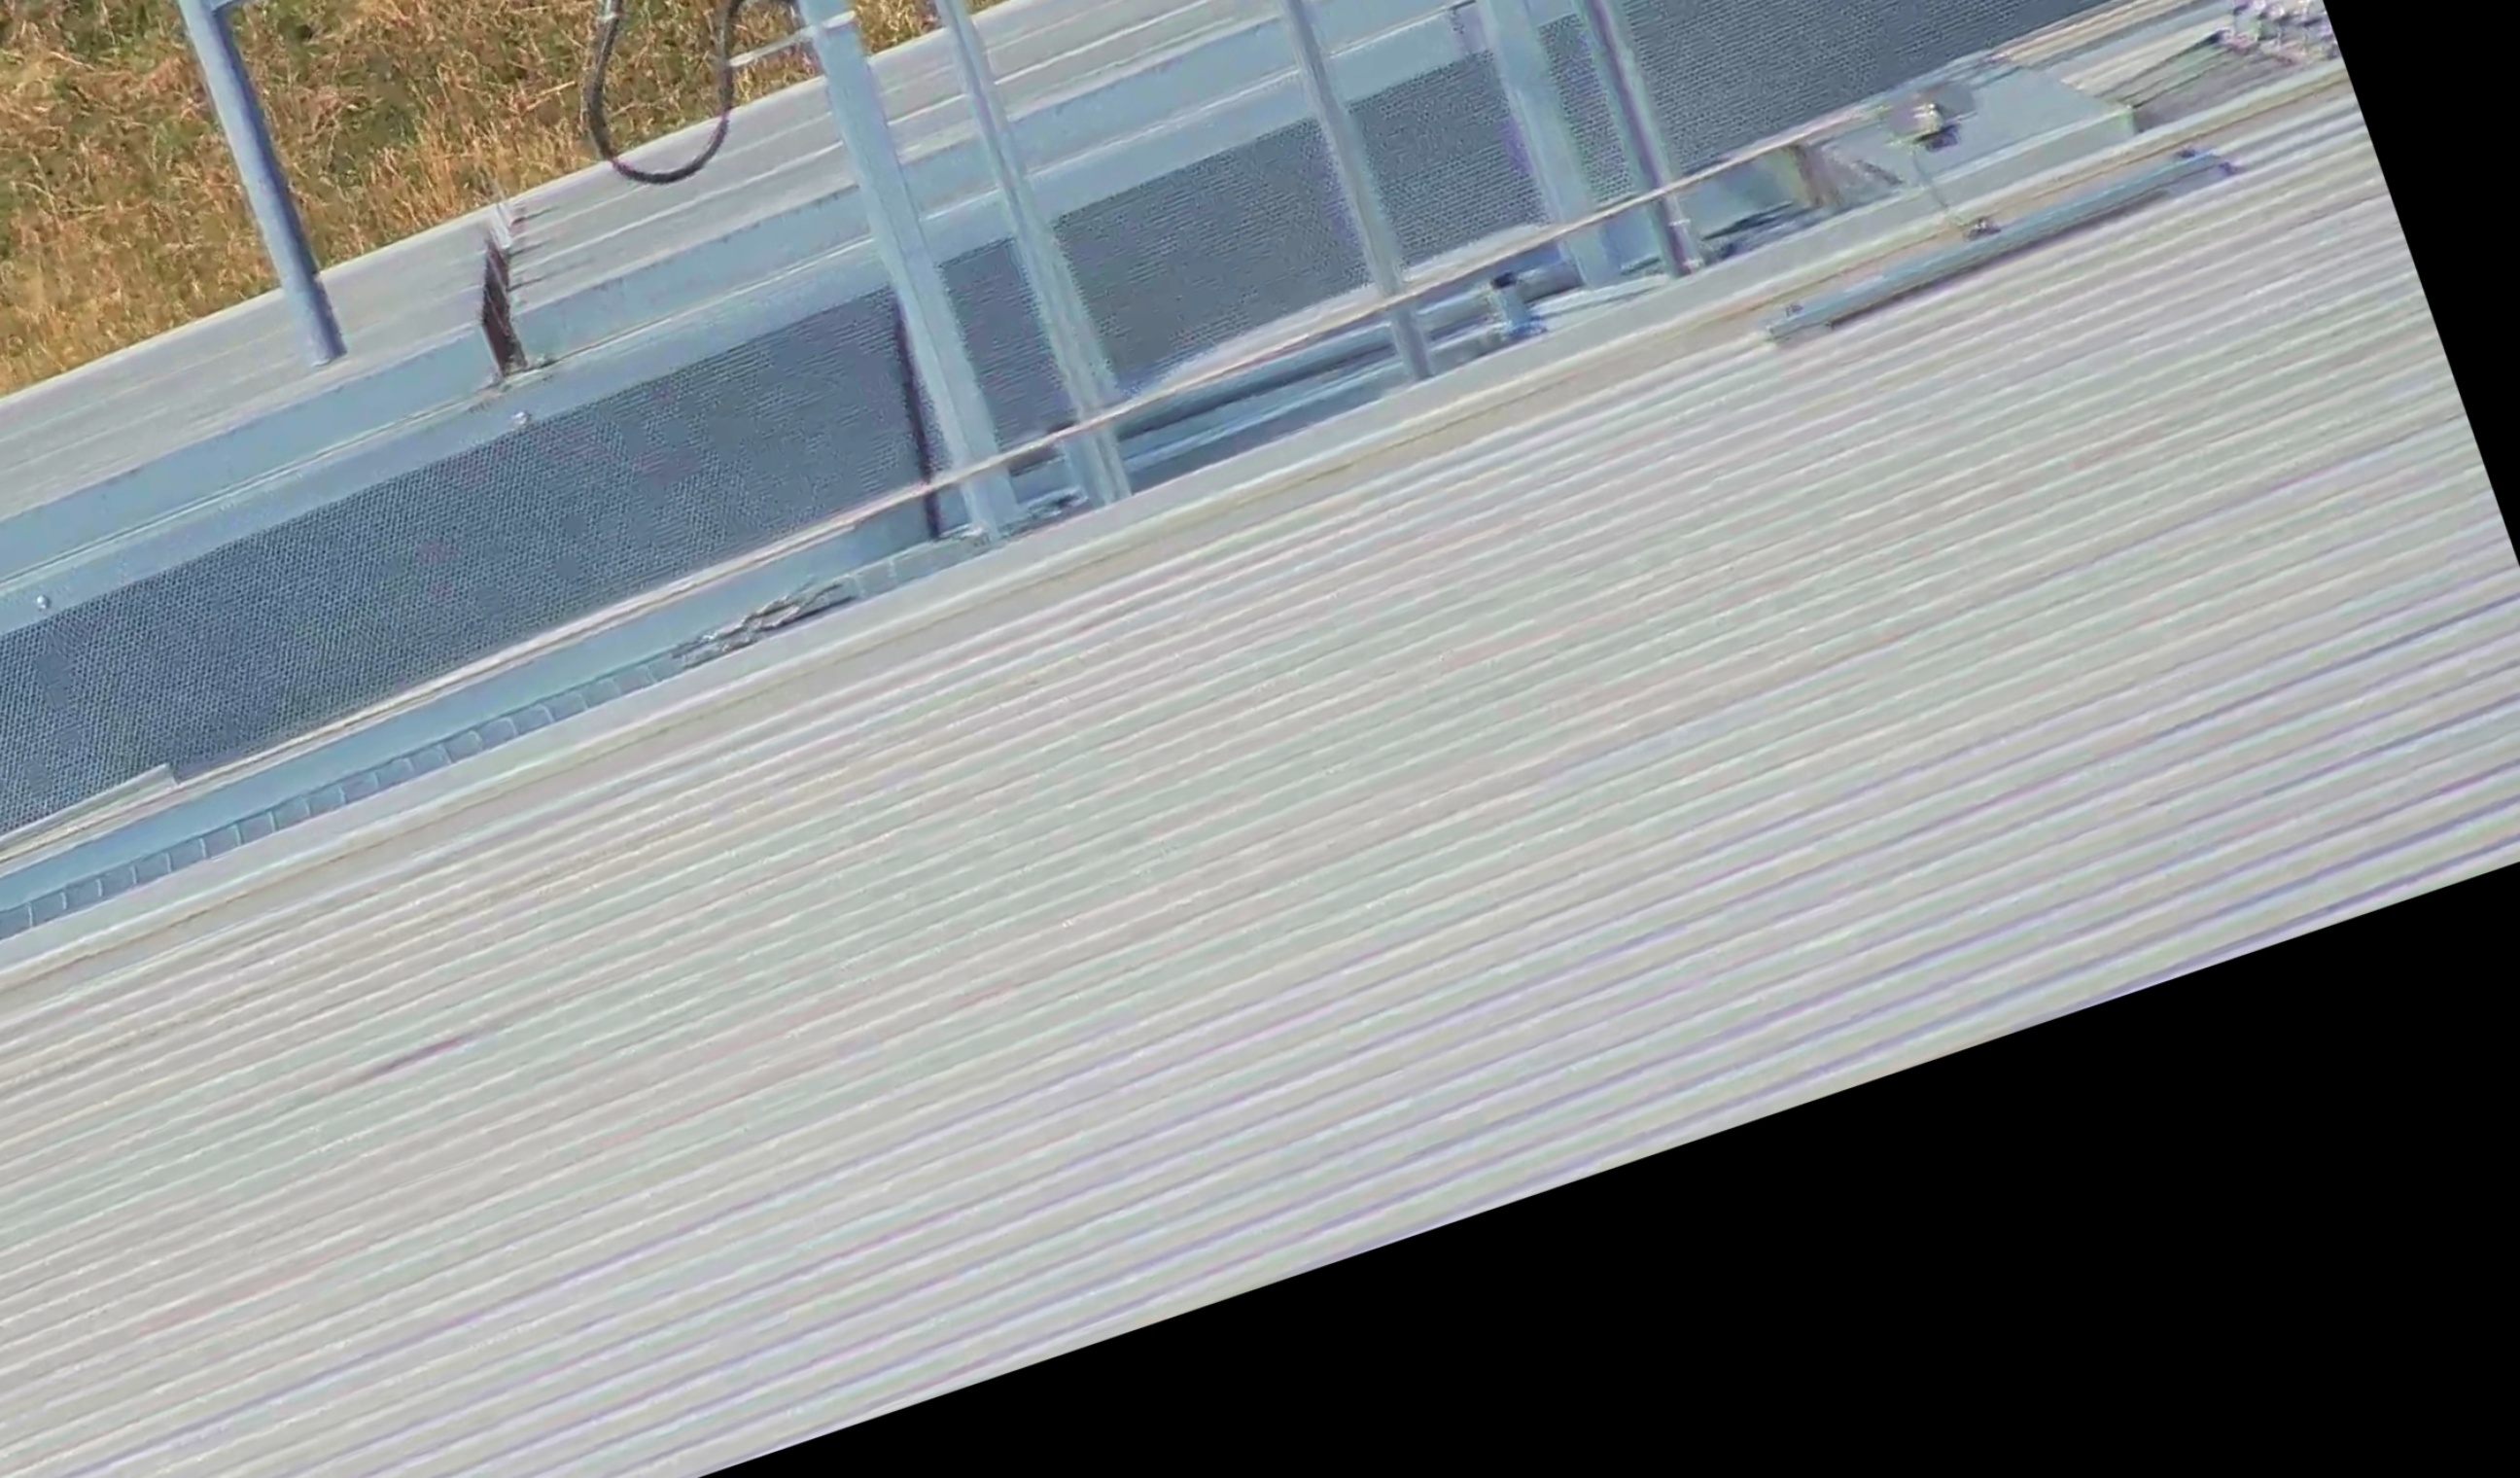Other: (426, 192, 573, 391)
